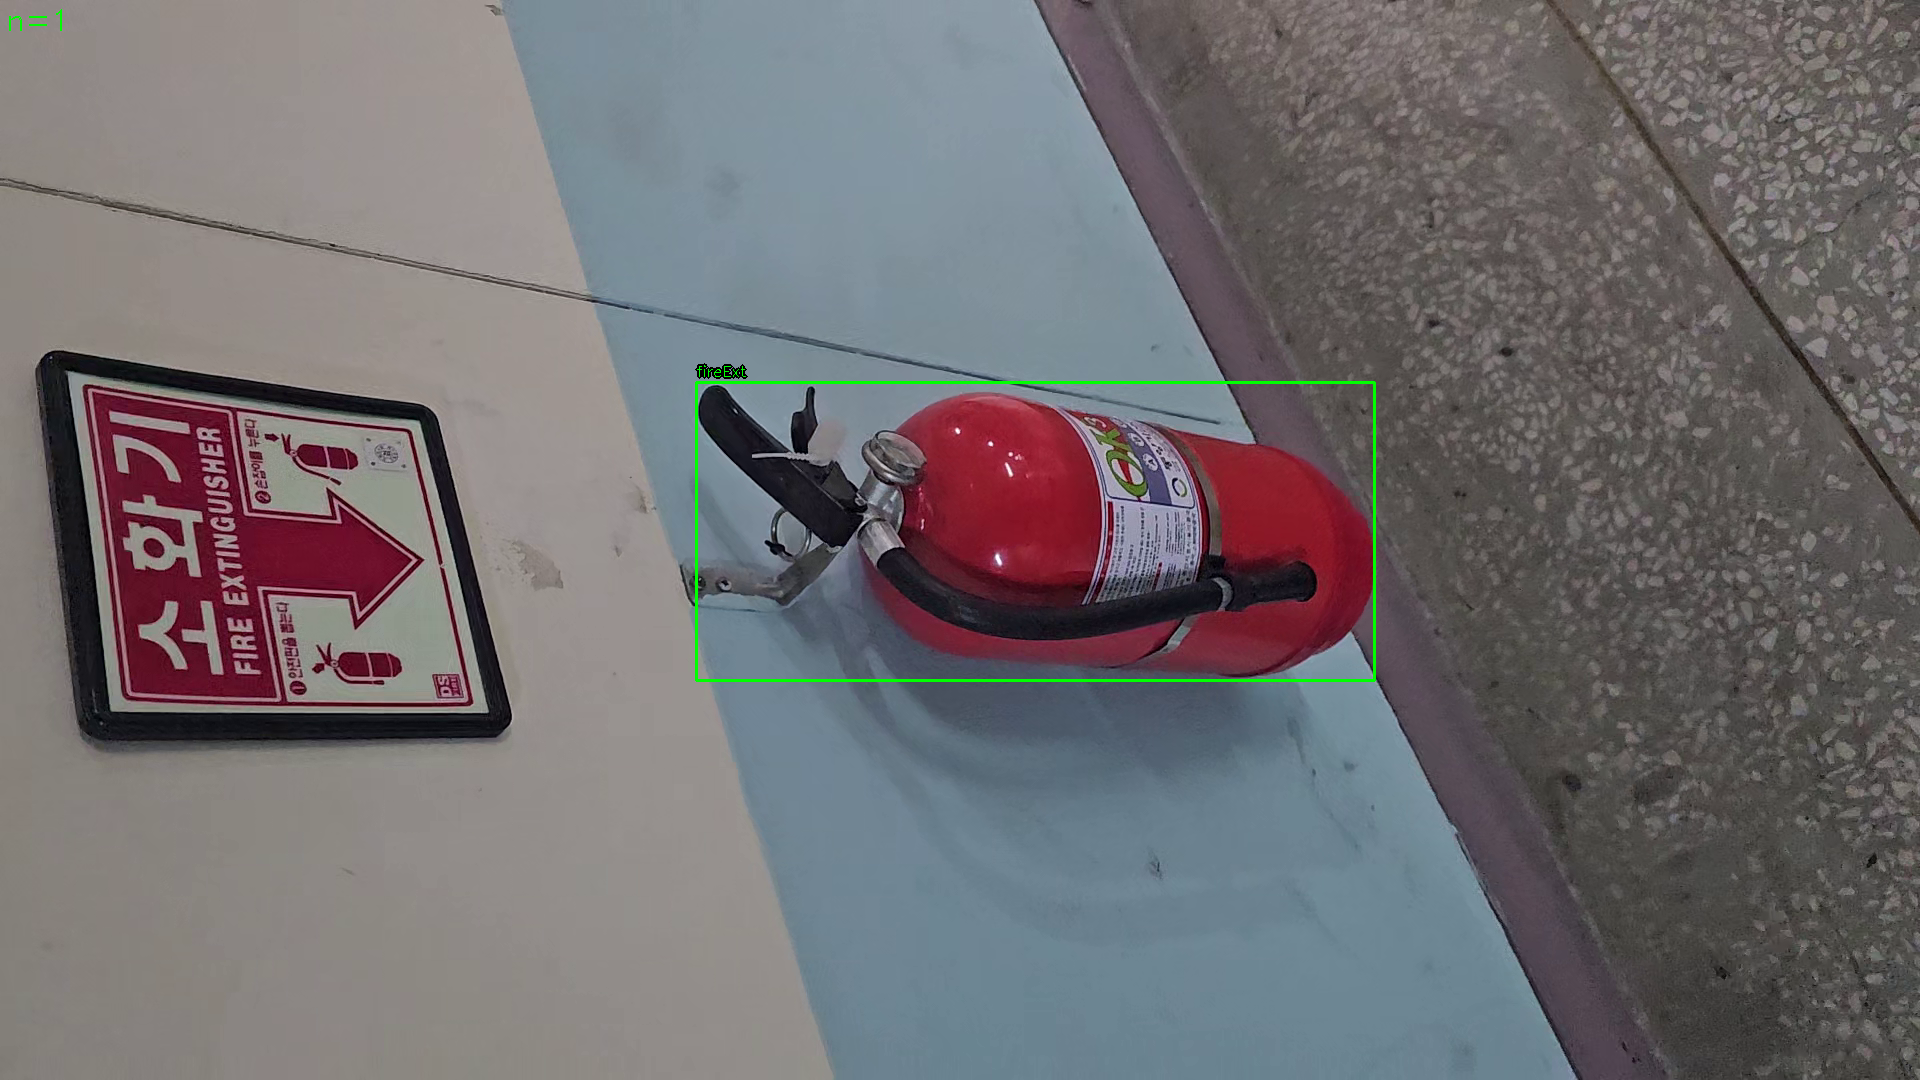lane: (696, 382, 1375, 680)
